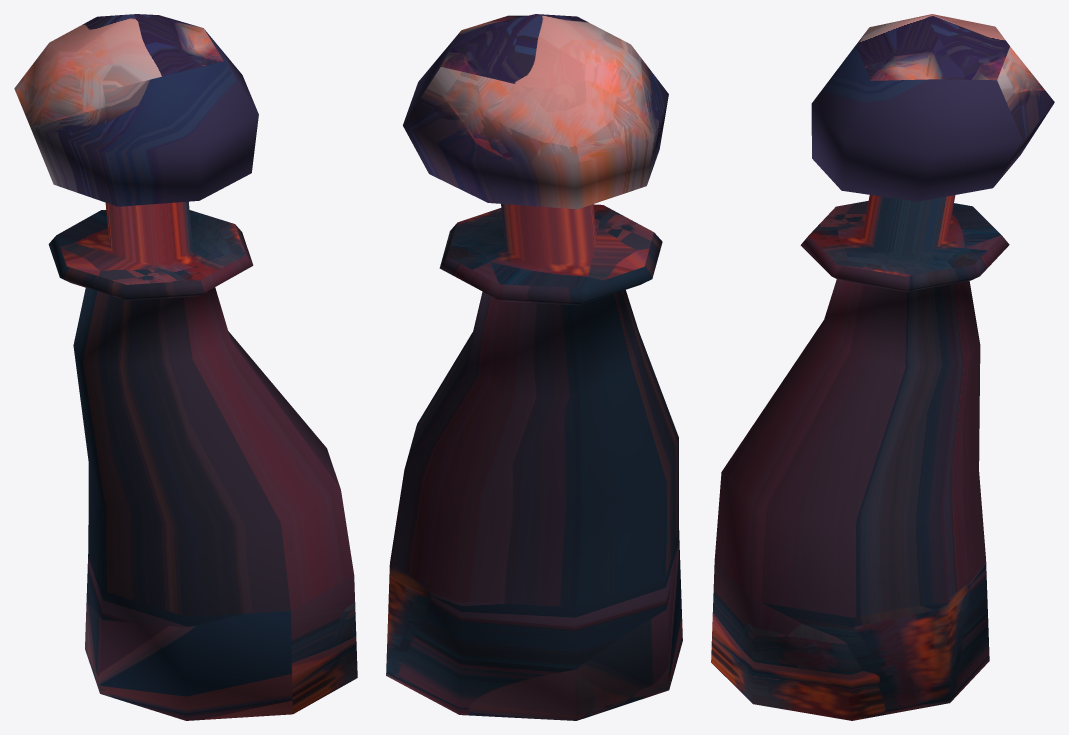
Rendered from mushroom_VAR1_3.fbx.
3 views of the same model, side by side, from view 1: azimuth 30°, elevation 25°; view 2: azimuth 150°, elevation 25°; view 3: azimuth 270°, elevation 25° (orthographic). The views are drawn at different scales.
Parts seen in each view (by area): view 1: Cylinder.001, Cube.002; view 2: Cylinder.001, Cube.002; view 3: Cylinder.001, Cube.002.
Part boxes in pixels (x1,y1,x2,y2): Cylinder.001: [48, 201, 357, 720]; Cube.002: [14, 14, 258, 206]; Cylinder.001: [386, 204, 682, 720]; Cube.002: [403, 14, 668, 209]; Cylinder.001: [711, 195, 1009, 720]; Cube.002: [811, 14, 1054, 201].
Size of the model in its own units: 314 by 694 by 346.
